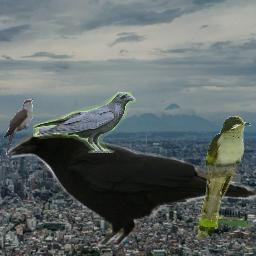Crow: (1, 121, 256, 248), (33, 92, 136, 153)
Cuckoo: (197, 116, 252, 240), (3, 99, 33, 158)
